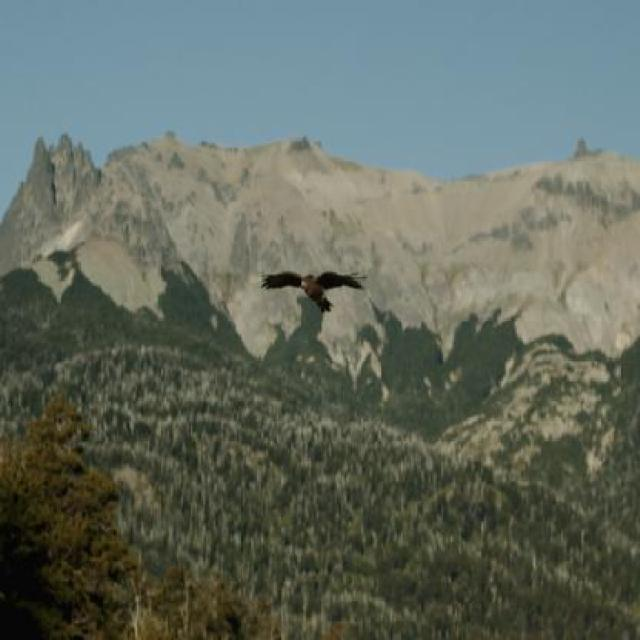bird: (254, 261, 361, 316)
